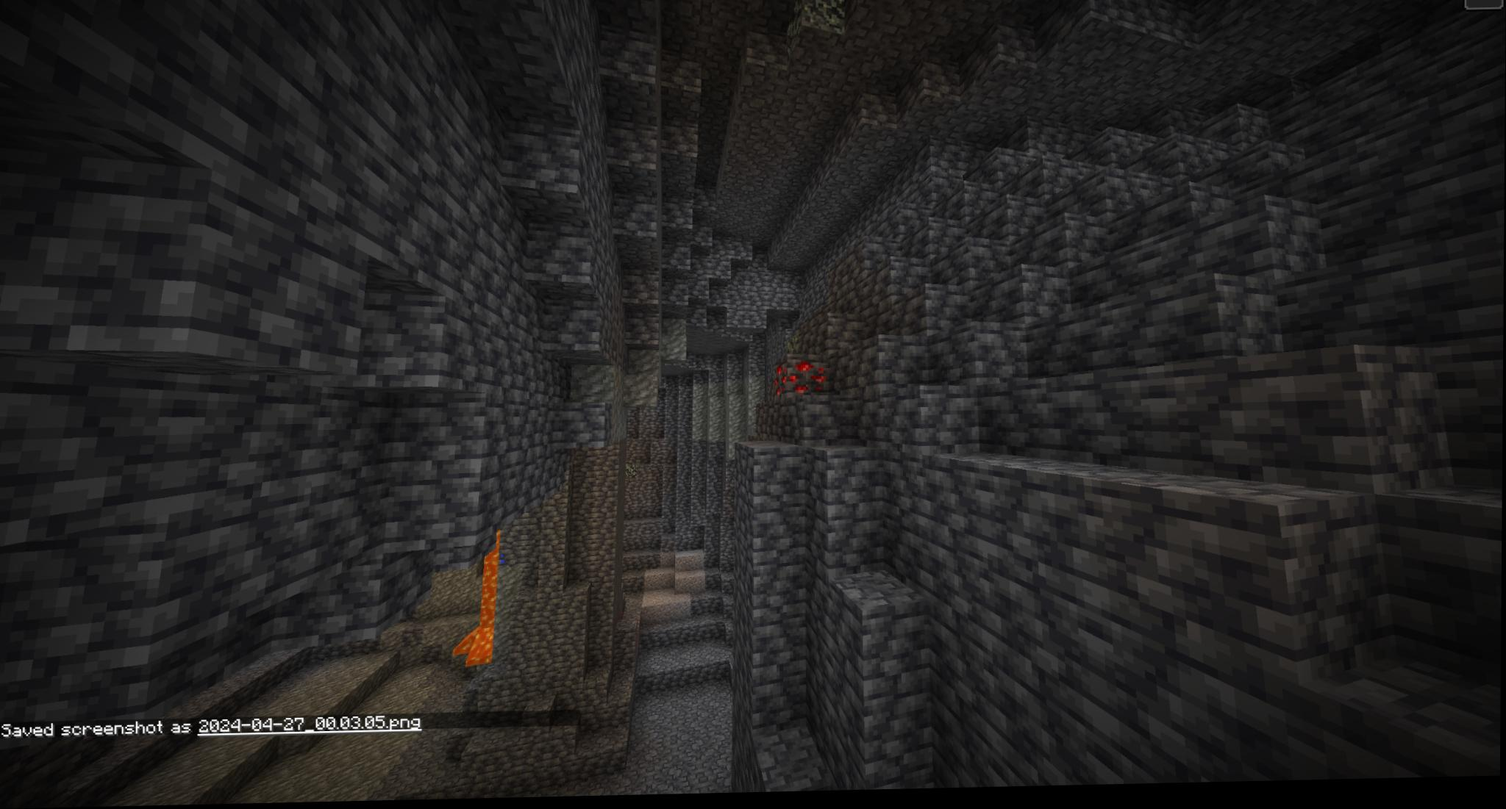redstone ore: (771, 359, 832, 399)
